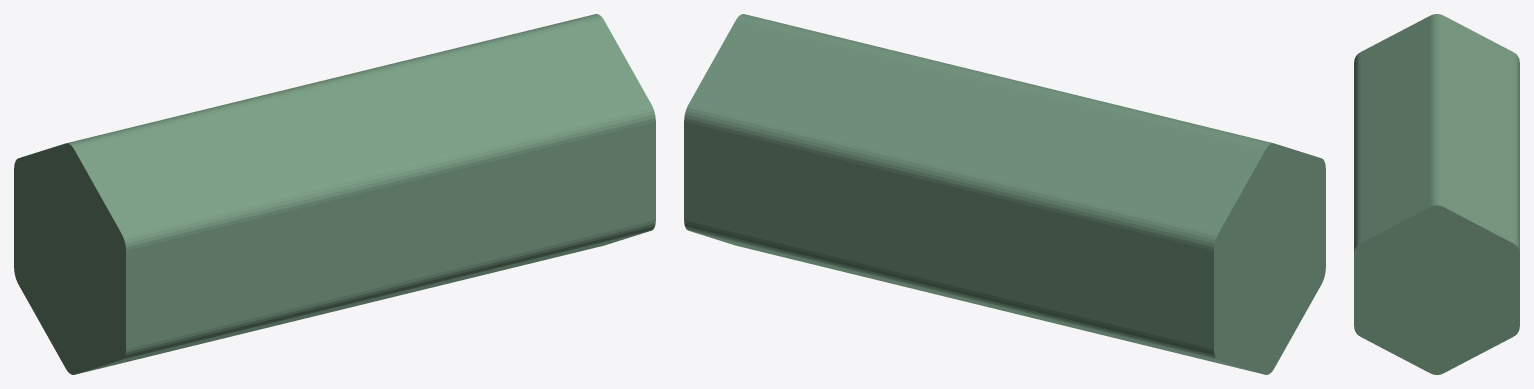
The model's file is peg_53_body.obj.
3 renders of one model, left to right at view 1: azimuth 30°, elevation 25°; view 2: azimuth 150°, elevation 25°; view 3: azimuth 270°, elevation 25°, orthographic. The views are drawn at different scales.
Visible parts, largest first — view 1: geometry_0; view 2: geometry_0; view 3: geometry_0.
Boxes of the visible parts, left/top/right/bottom form: geometry_0: left=14, top=14, right=655, bottom=374; geometry_0: left=684, top=14, right=1325, bottom=374; geometry_0: left=1354, top=14, right=1519, bottom=374.
Size of the model in its own units: 0.1 by 0.0413 by 0.0366.
